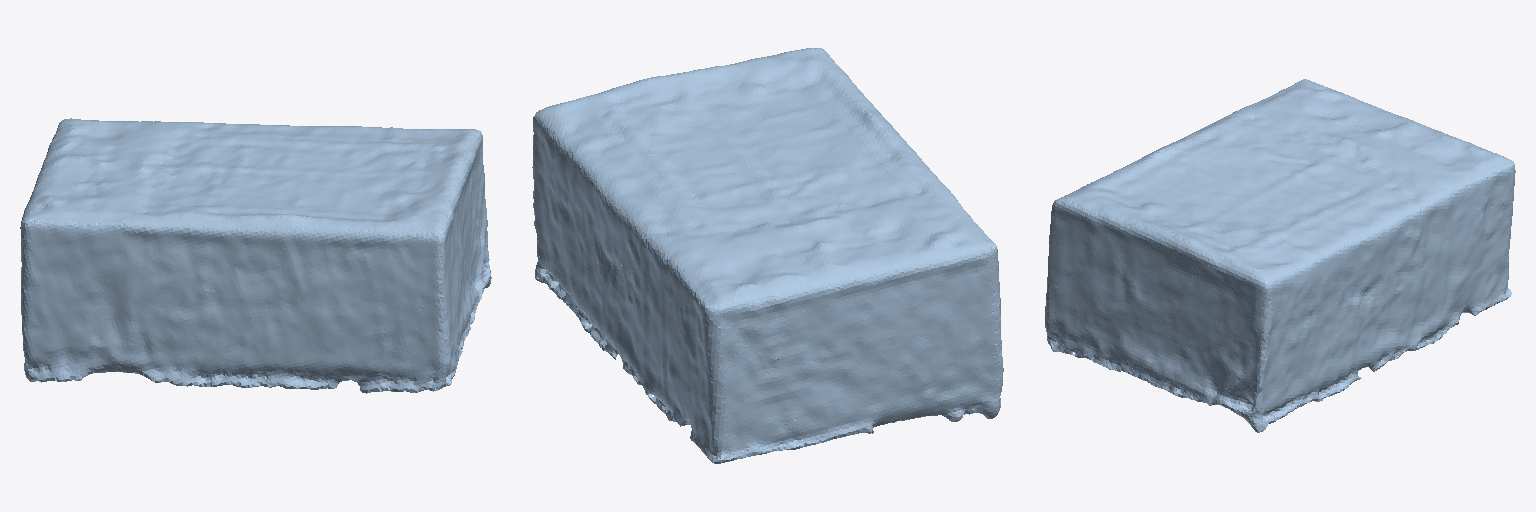
The robot description file, URDF, robot "smallbox.urdf":
<?xml version="1.0" ?>
<robot name="smallbox.urdf">
  <dynamics damping="0.5" friction="0.9"/>
  <link name="baseLink">
    <contact>
      <lateral_friction value="0.9"/>
      <rolling_friction value="0.5"/>
      <stiffness value="30000"/>
      <damping value="1000"/>
    </contact>
    <visual>
      <origin rpy="0 0 0" xyz="0 0 0"/>
      <geometry>
        <mesh filename="meshes/smallbox/smallbox.stl" scale="1.0 1.0 1.0"/>
      </geometry>
       <material name="mat">
        <color rgba="0.7 0.8 0.9 1"/>
      </material>
    </visual>
    <collision>
      <origin rpy="0 0 0" xyz="0 0 0"/>
      <geometry>
	 	<mesh filename="meshes/smallbox/smallbox.stl" scale="1.0 1.0 1.0"/>
      </geometry>
    </collision>
  </link>
</robot>

--- Facts derived from the render (not from the file) ---
Views: 3 orthographic renders of the robot side by side, from view 1: azimuth 30°, elevation 25°; view 2: azimuth 150°, elevation 25°; view 3: azimuth 270°, elevation 25°.
Robot: smallbox.urdf — 1 links, 0 joints (none); root link baseLink; default pose: every joint at zero.
Links seen in each view (by area): view 1: baseLink; view 2: baseLink; view 3: baseLink.
Boxes of the visible links, <box> form: baseLink: <box>20,118,491,393</box>; baseLink: <box>532,48,1003,463</box>; baseLink: <box>1045,79,1515,432</box>.
Size in the robot's own frame: 0.4173 by 0.3991 by 0.1635 metres.
Meshes: 1 distinct files referenced, 1 mesh visuals loaded (1 binary STL).
